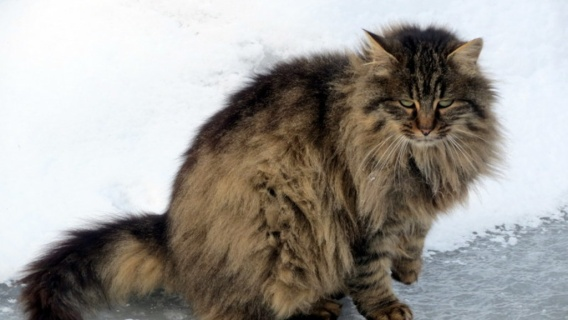Cat: (8, 14, 515, 320)
